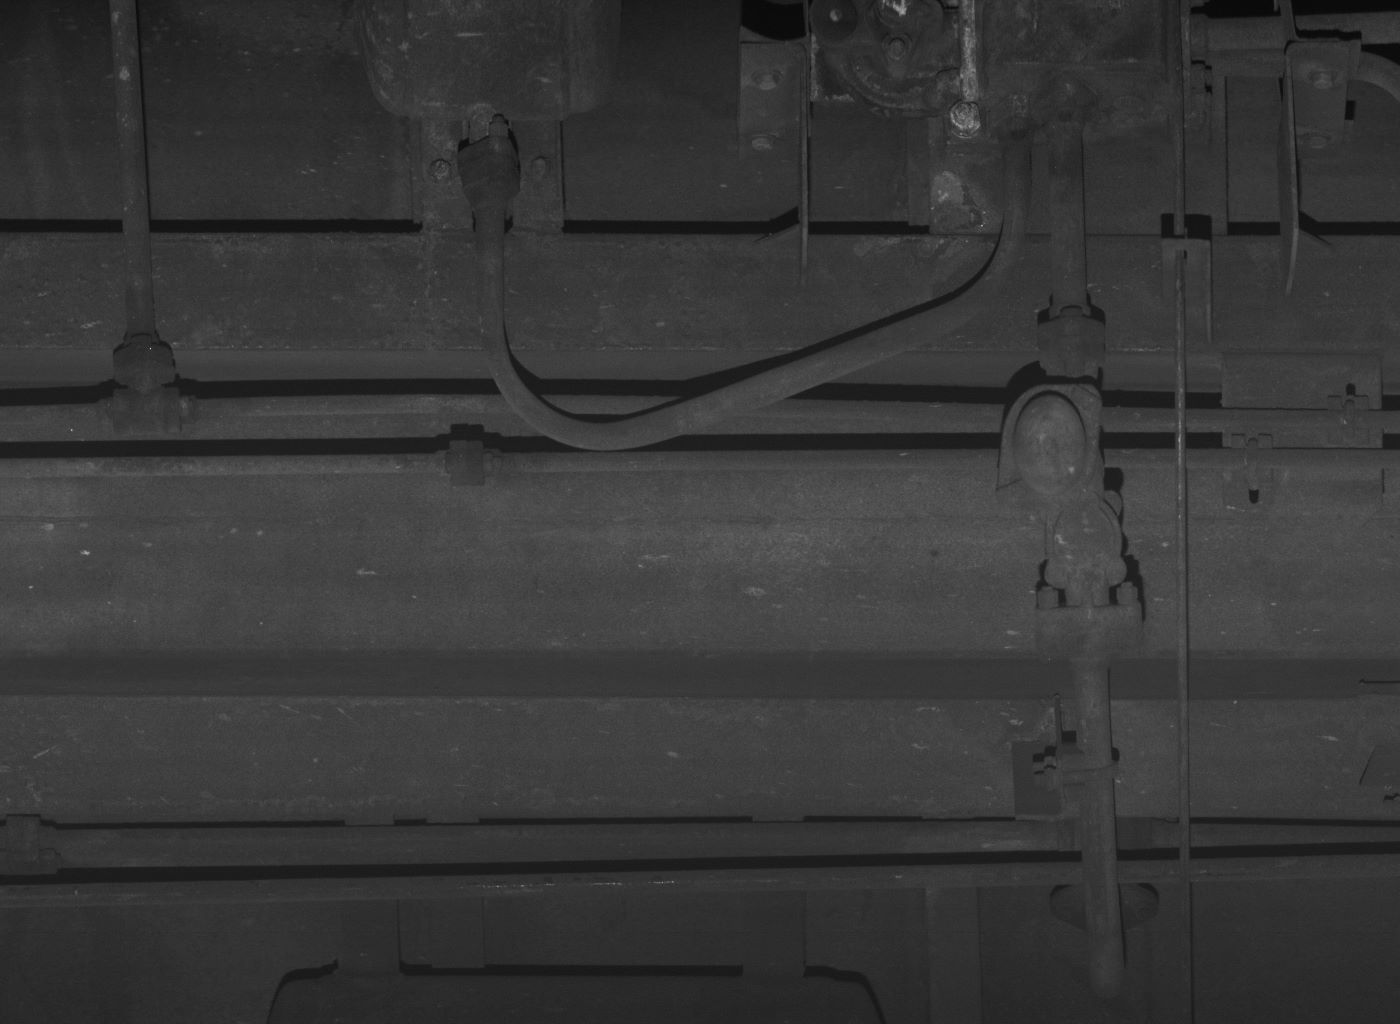normal: (1041, 490, 1127, 588)
